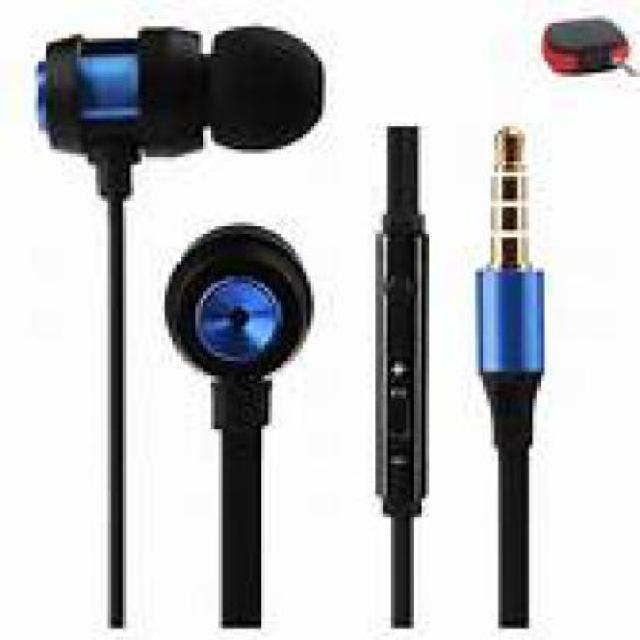earphone: (19, 19, 367, 640)
